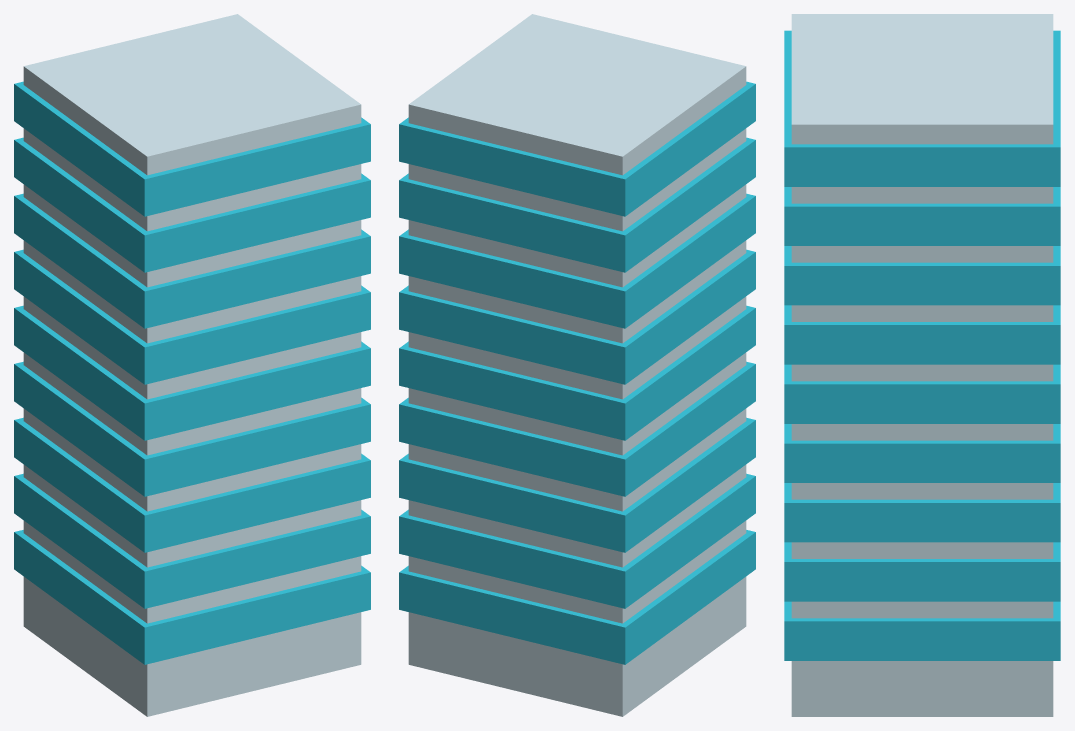
Rendered from Optimized_House_01.fbx.
3 views of the same model, side by side, from view 1: azimuth 30°, elevation 25°; view 2: azimuth 150°, elevation 25°; view 3: azimuth 270°, elevation 25° (orthographic). The views are drawn at different scales.
Visible parts, largest first — view 1: Optimized_01; view 2: Optimized_01; view 3: Optimized_01.
Boxes of the visible parts, box(x1,y1,x2,y2) form: Optimized_01: box(14, 14, 370, 716); Optimized_01: box(399, 14, 755, 716); Optimized_01: box(784, 14, 1060, 716).
Size of what is drawn, in the model's own units: 1267 by 3000 by 1267.
Materials: 1 (1 with a texture image).
